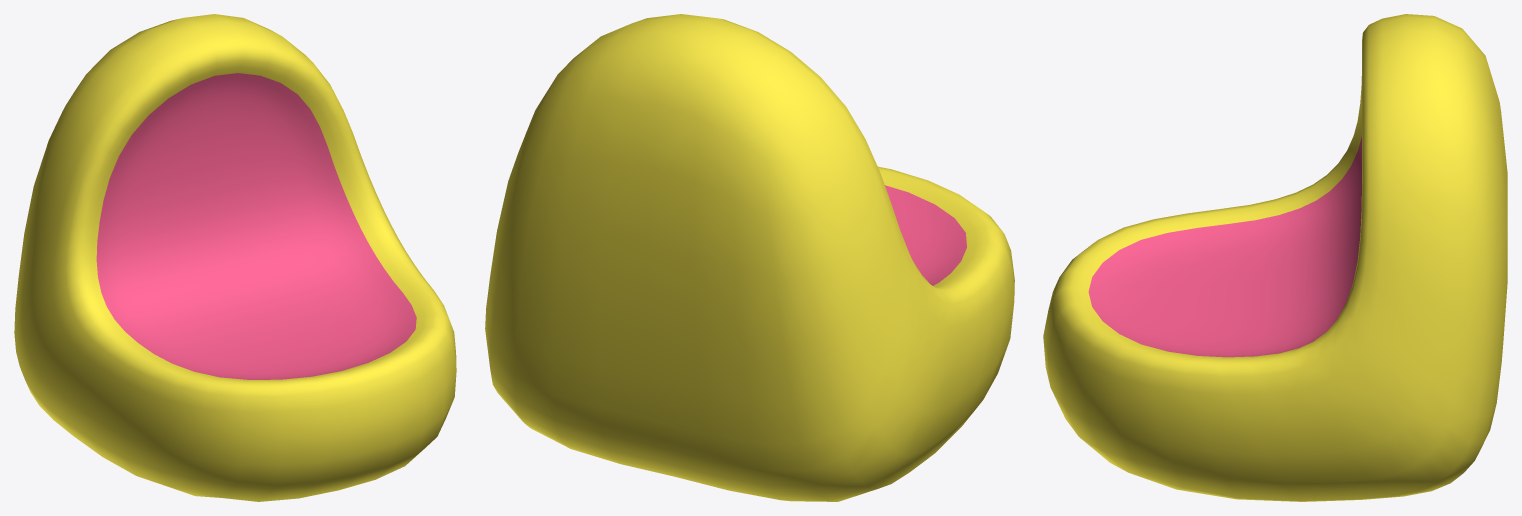
File: Town_14_Beanbag_Chair_1.glb
3 views of the same model, side by side, from view 1: azimuth 30°, elevation 25°; view 2: azimuth 150°, elevation 25°; view 3: azimuth 270°, elevation 25° (orthographic). The views are drawn at different scales.
Parts seen in each view (by area): view 1: Town_14_Beanbag_Chair_1; view 2: Town_14_Beanbag_Chair_1; view 3: Town_14_Beanbag_Chair_1.
Boxes of the visible parts, x1=… form: Town_14_Beanbag_Chair_1: x1=14, y1=14, x2=456, y2=501; Town_14_Beanbag_Chair_1: x1=485, y1=14, x2=1014, y2=501; Town_14_Beanbag_Chair_1: x1=1043, y1=14, x2=1507, y2=501.
Size of the model in its own units: 1.09 by 1.14 by 1.15.
1 material, 1 textured.
